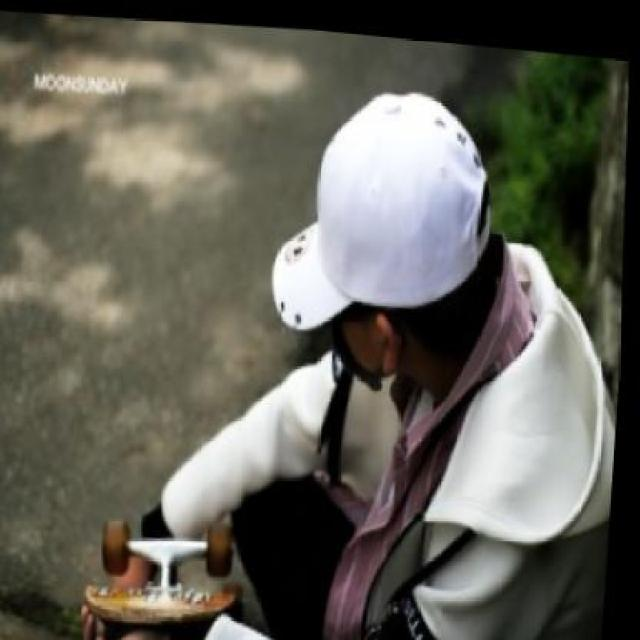hat: (265, 70, 507, 342)
